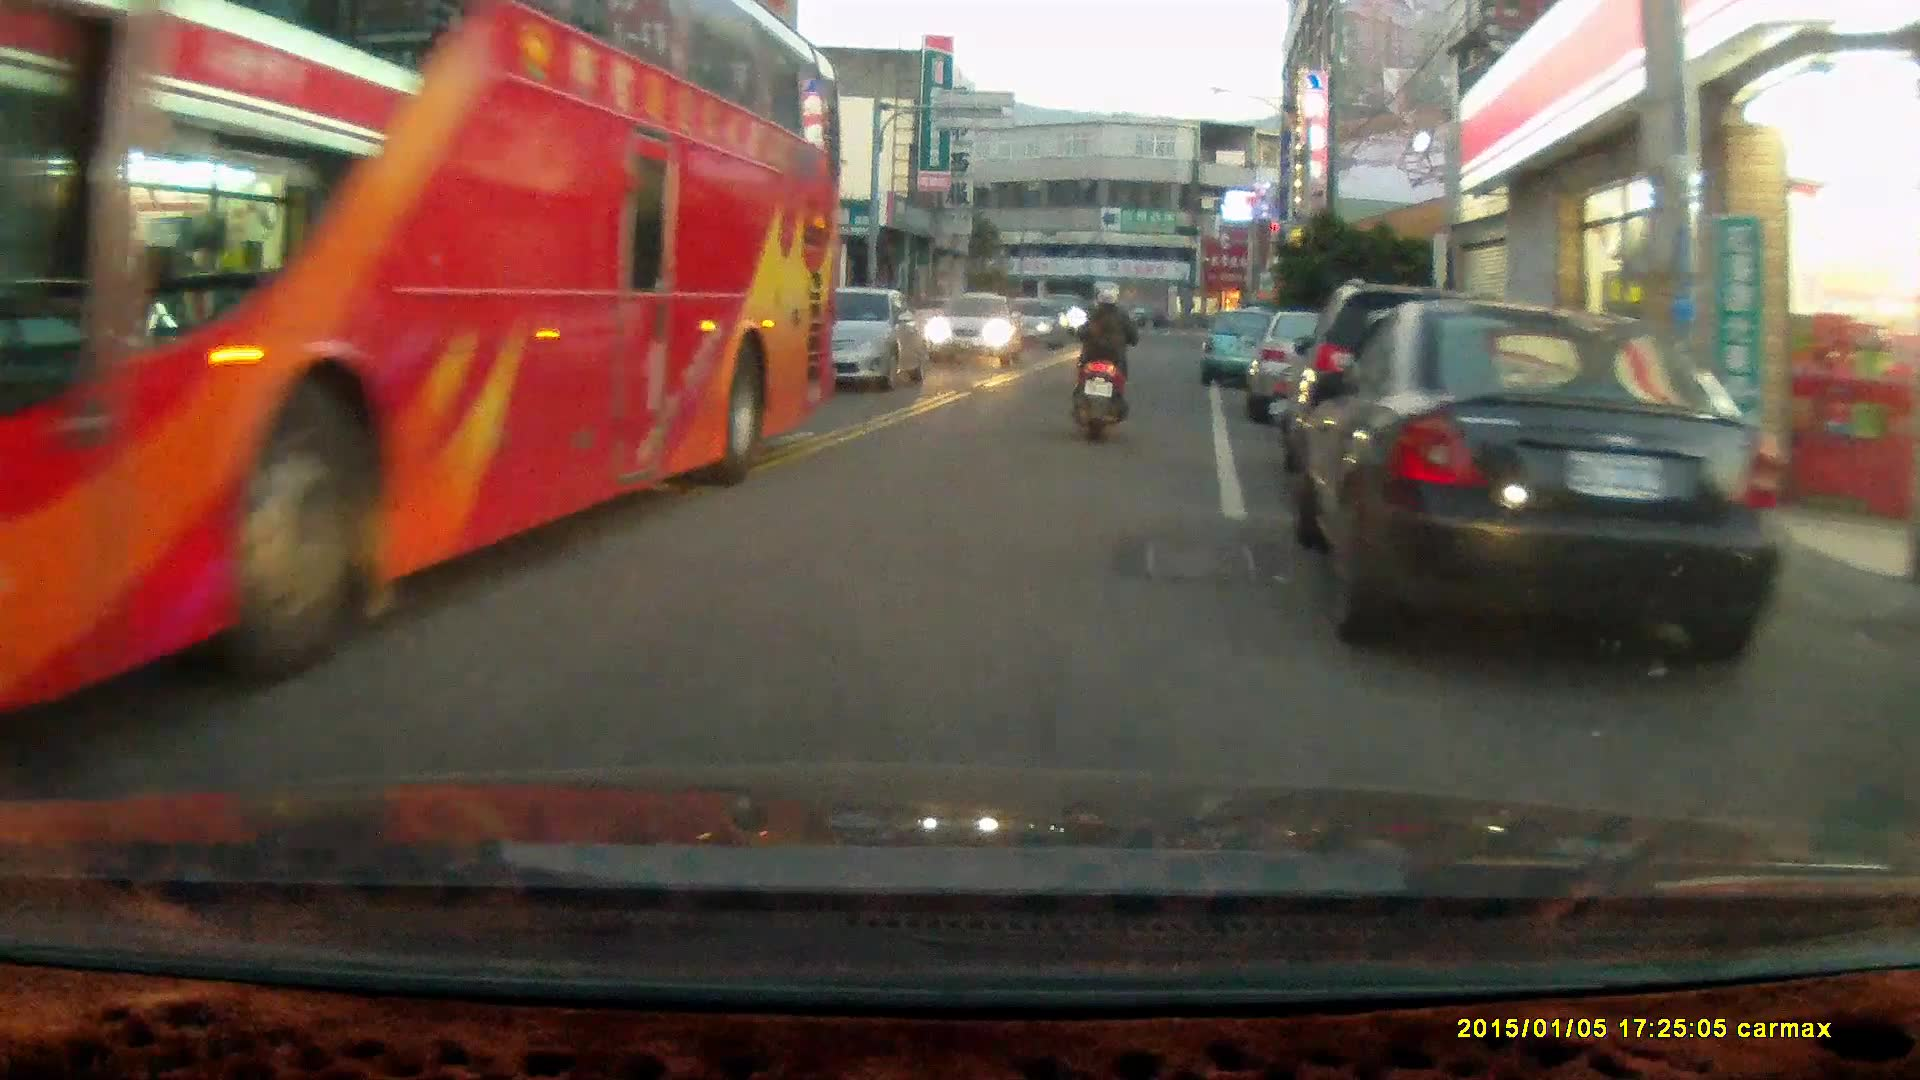rider: (1068, 281, 1138, 442)
vehicle: (1, 9, 848, 702), (1295, 302, 1813, 698), (1298, 270, 1559, 517), (1244, 307, 1406, 426), (773, 286, 925, 395), (1200, 306, 1294, 393), (927, 289, 1028, 367)
